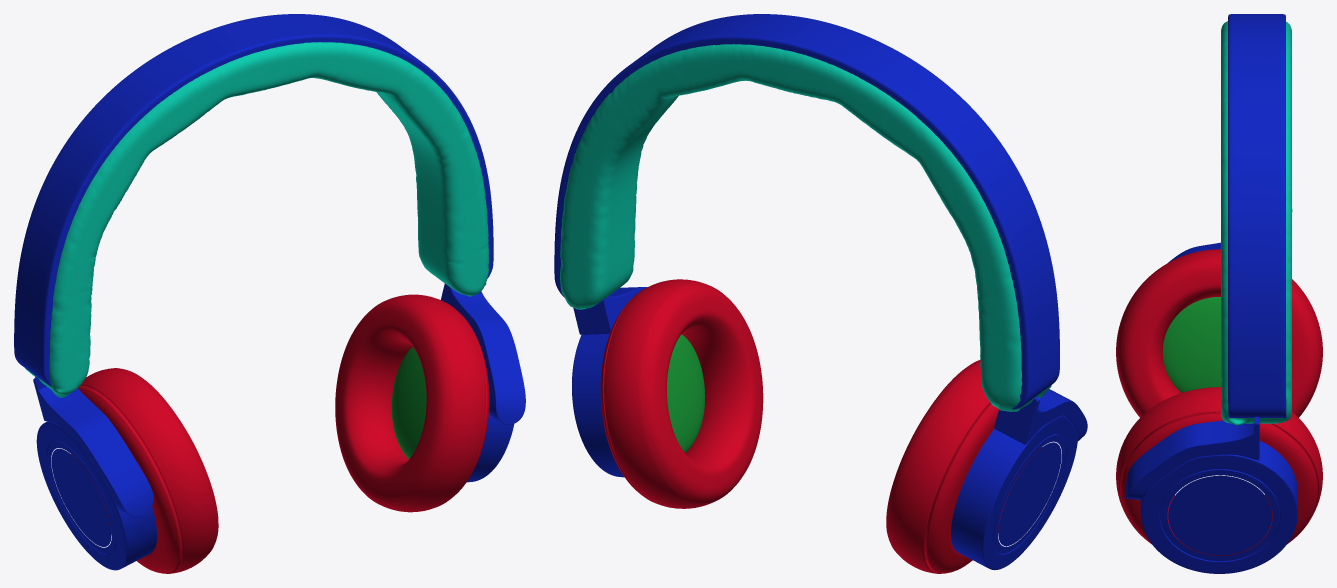
Rendered from casque_01.glb.
3 views of the same model, side by side, from view 1: azimuth 30°, elevation 25°; view 2: azimuth 150°, elevation 25°; view 3: azimuth 270°, elevation 25° (orthographic). The views are drawn at different scales.
Parts seen in each view (by area): view 1: casque_metal, casque_other; view 2: casque_metal, casque_other; view 3: casque_other, casque_metal.
Part boxes in pixels (x1,y1,x2,y2): casque_metal: (25, 42, 489, 573); casque_other: (14, 14, 525, 570); casque_metal: (560, 44, 1051, 573); casque_other: (554, 14, 1087, 570); casque_other: (1125, 14, 1297, 573); casque_metal: (1116, 21, 1322, 555).
Size of the model in its own units: 0.3088 by 0.3203 by 0.129.
